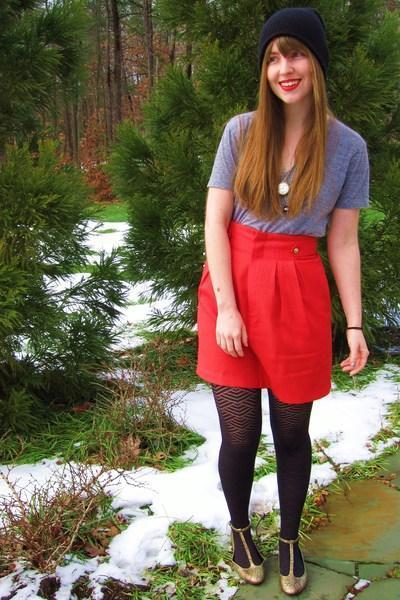hat: (270, 16, 338, 74)
shirt: (207, 112, 370, 241)
shoe: (228, 548, 262, 581)
skirt: (195, 224, 335, 403)
